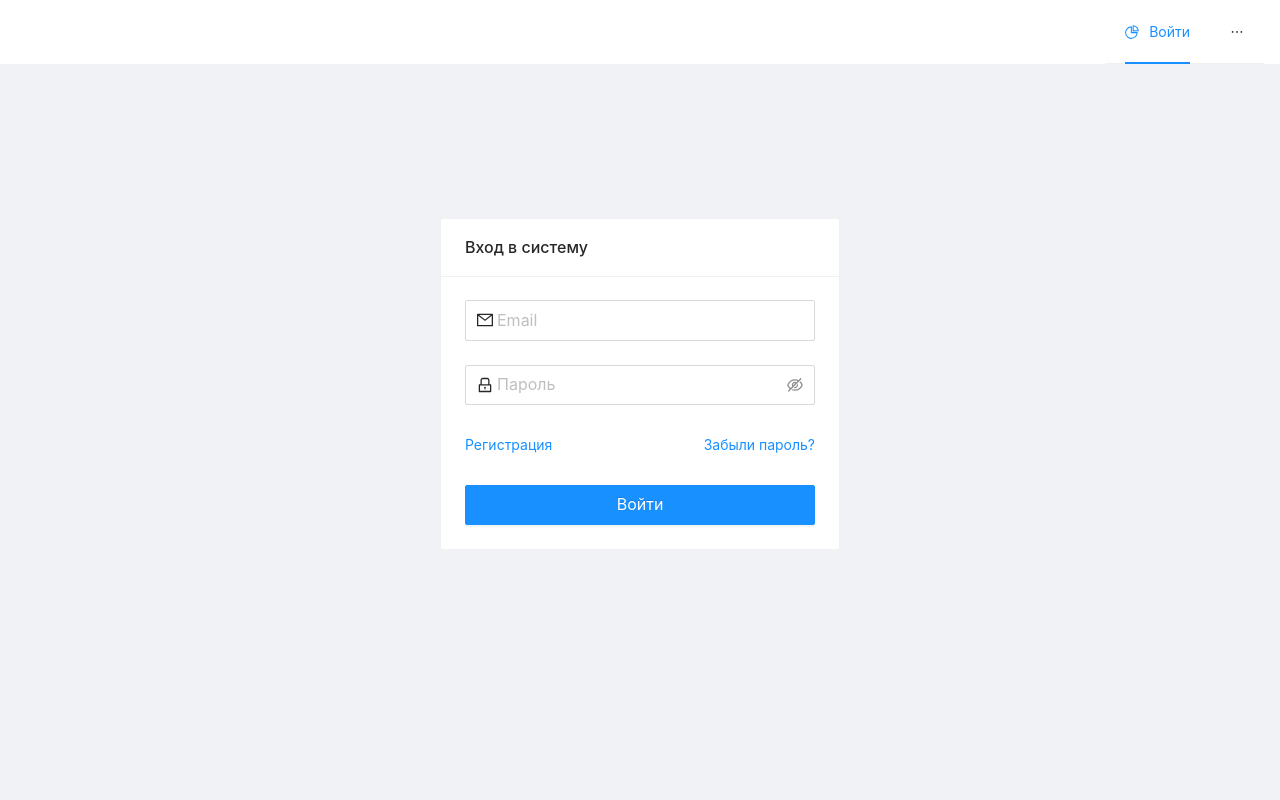
Test: Auth › Login › Prevent login with wrong email
Step 1. Type "wronglogin@gmail.com" into the field with id "login_email" → x=650, y=321, box [497,308,803,333]
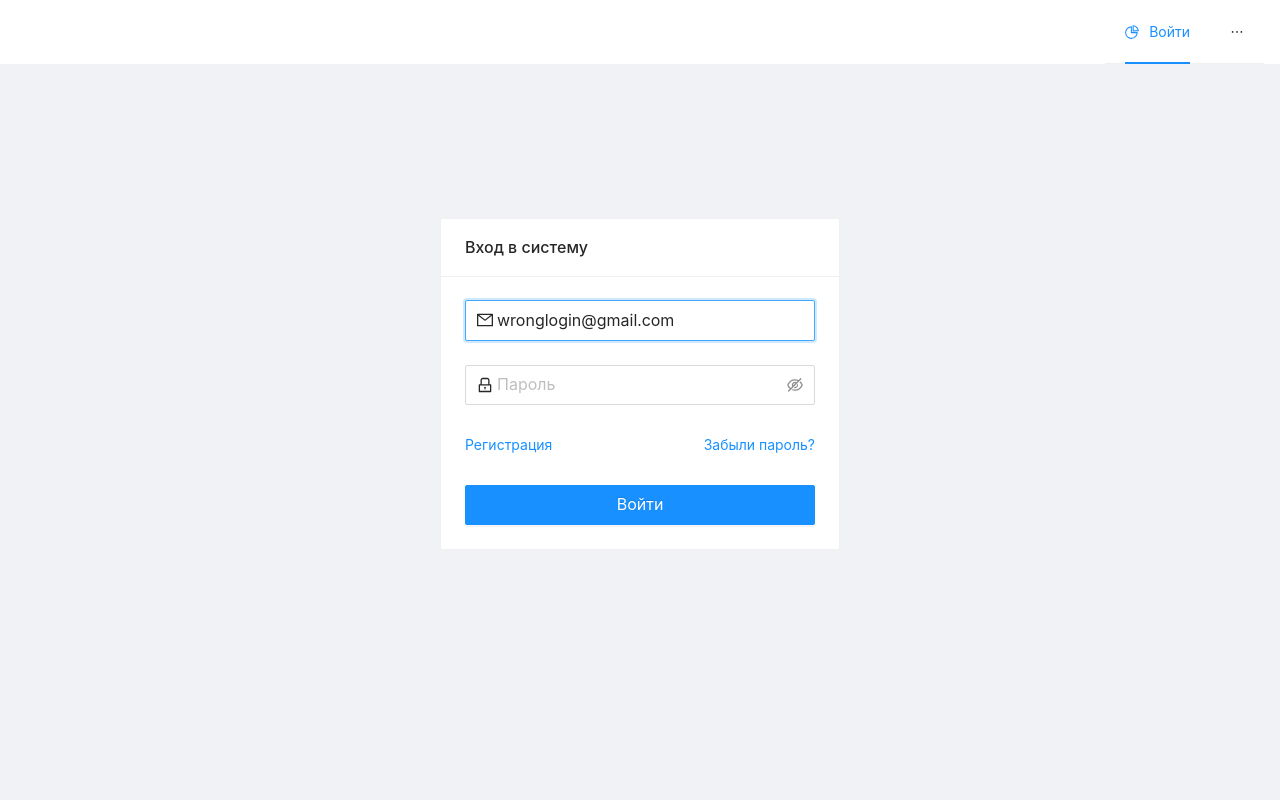
Step 2. Type "11F23xP" into the password field with id "login_password" → x=640, y=385, box [497,372,783,397]
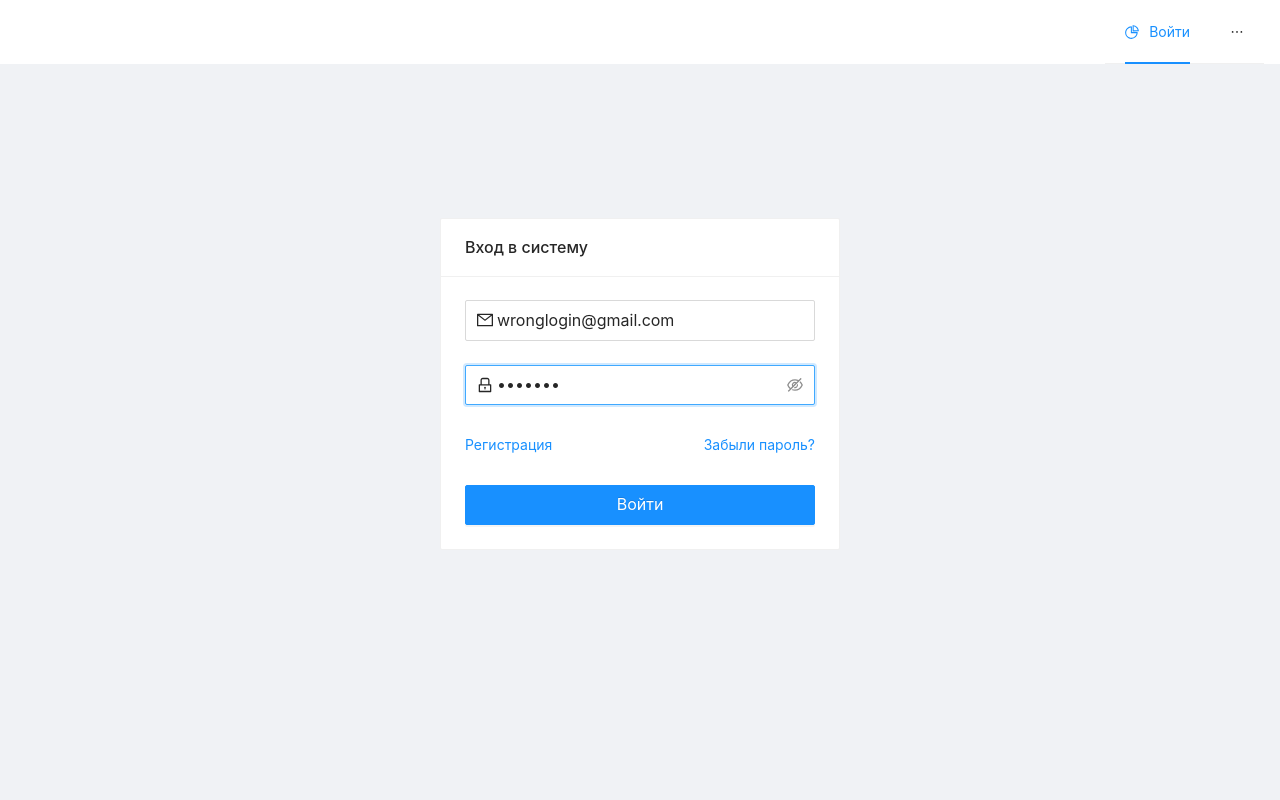
Step 3. Click the submit button → x=640, y=505, box [465,485,815,525]
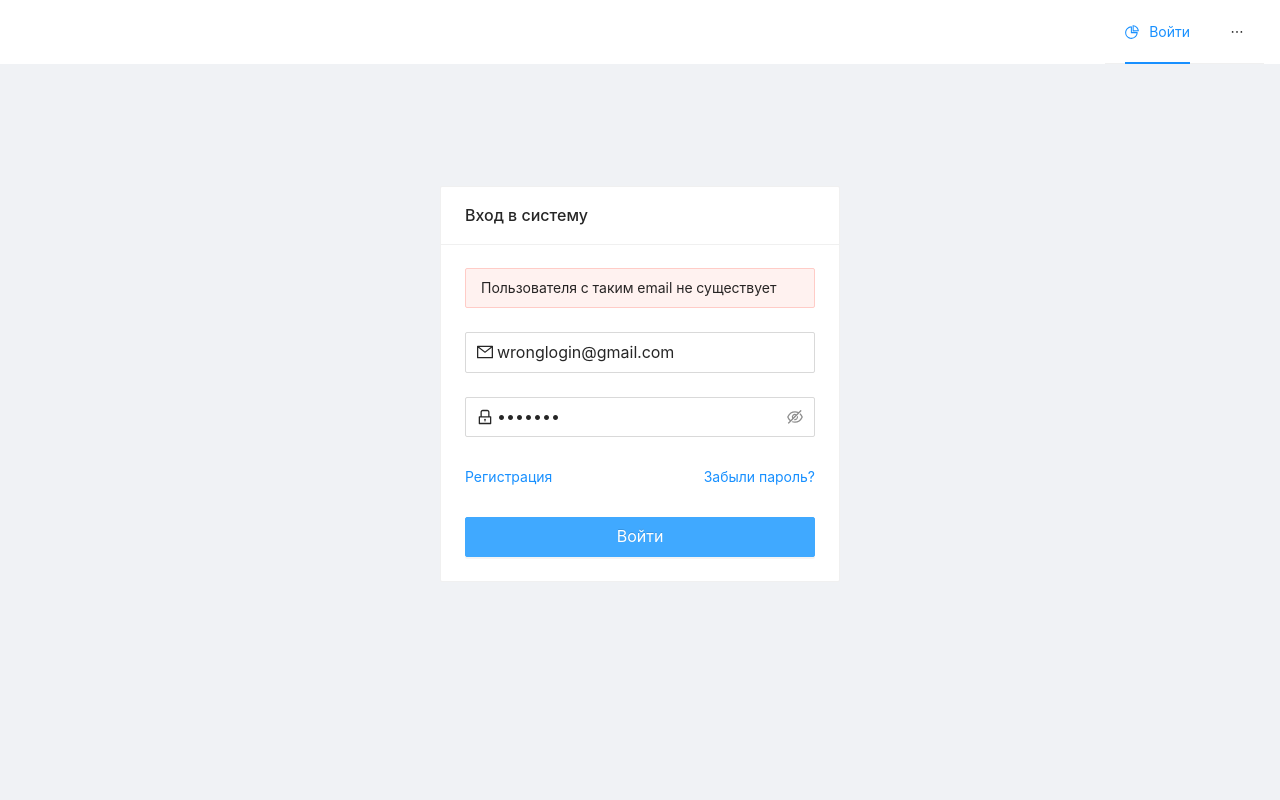
Expected: the text "Пользователя с таким email не существует" is shown, [481,277,799,299]
